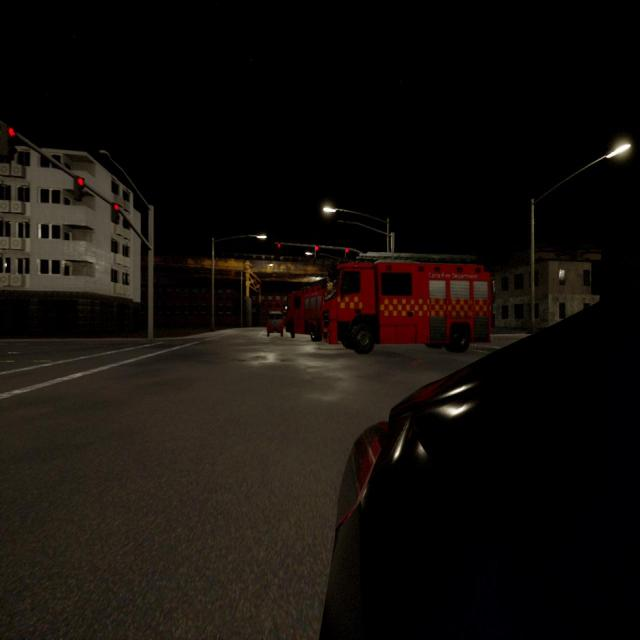Vehicle: (325, 293, 640, 639), (322, 264, 490, 348), (289, 291, 321, 338), (267, 312, 283, 336)
traffic_light: (3, 126, 15, 157), (75, 176, 83, 201), (110, 203, 120, 223), (277, 242, 281, 249), (315, 246, 319, 251), (345, 248, 349, 252)
